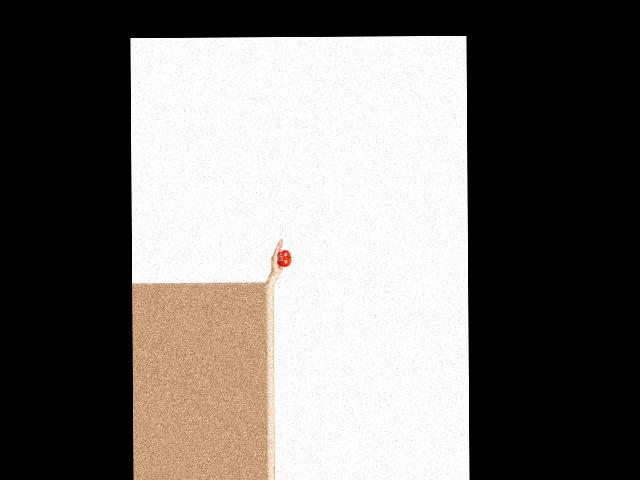tomato: (277, 249, 291, 266)
